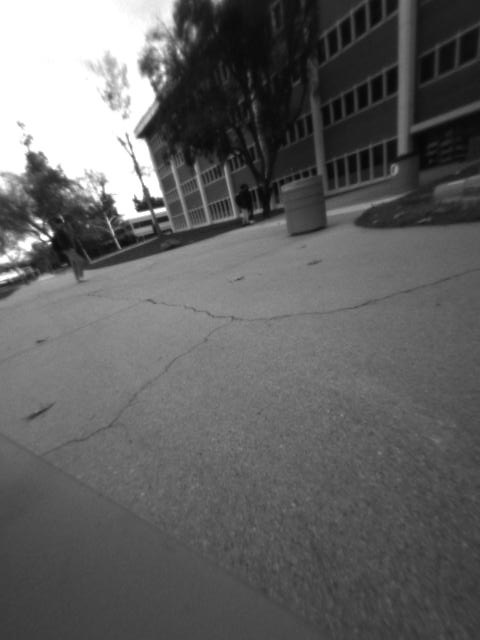trashcan: (278, 173, 330, 235), (387, 150, 422, 194)
